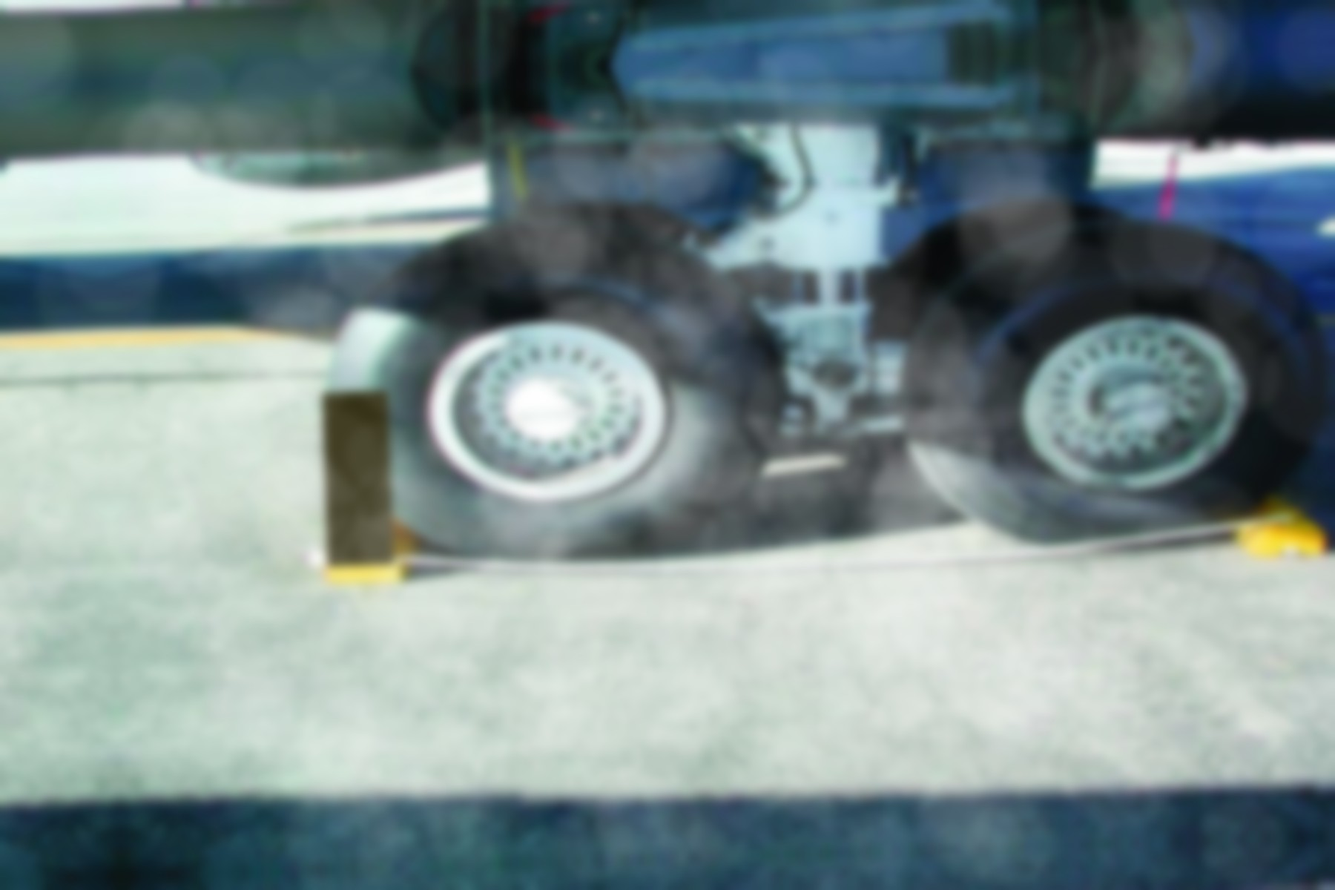chock: (323, 476, 436, 585), (1219, 465, 1334, 562)
wheel: (320, 201, 781, 563), (889, 207, 1331, 546), (865, 194, 1135, 343), (507, 192, 716, 248)
